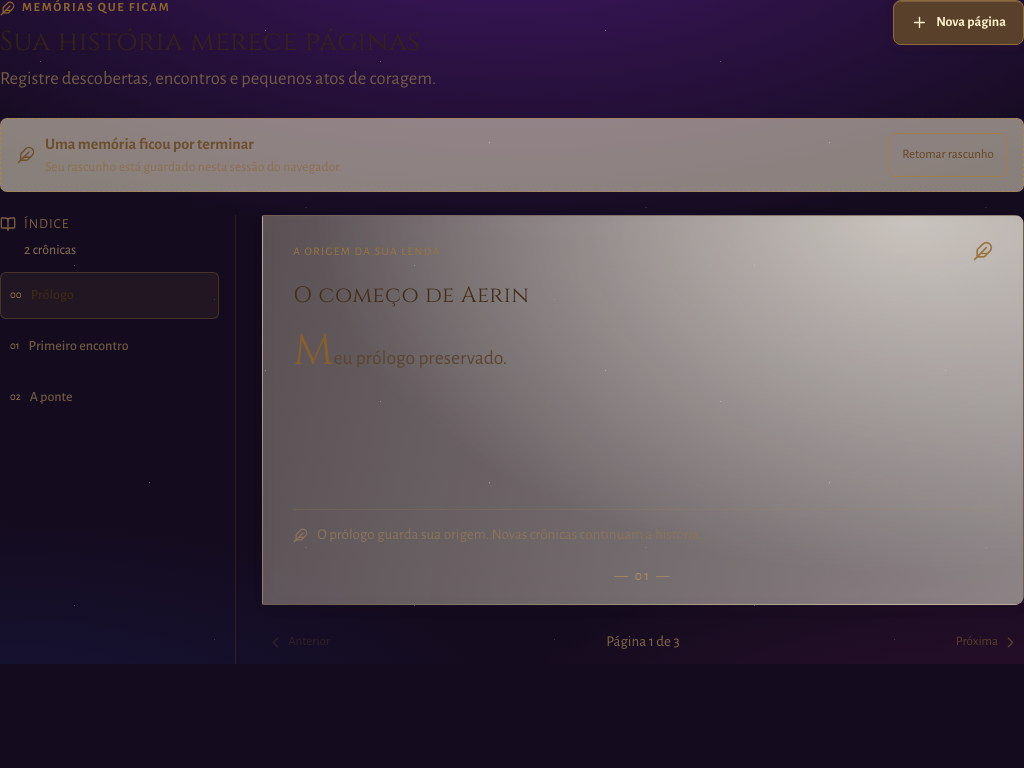
Test: Páginas da história no livro do Herói › recupera um rascunho ao retornar sem abrir o editor sozinho nem alterar o jogo
Earlier steps of the test are not shown.
Later steps or results of the test are not shown.
Click the button "Nova página": x=959, y=22 [893,0,1023,45]
Click the button "Retomar rascunho": x=948, y=155 [889,133,1007,177]
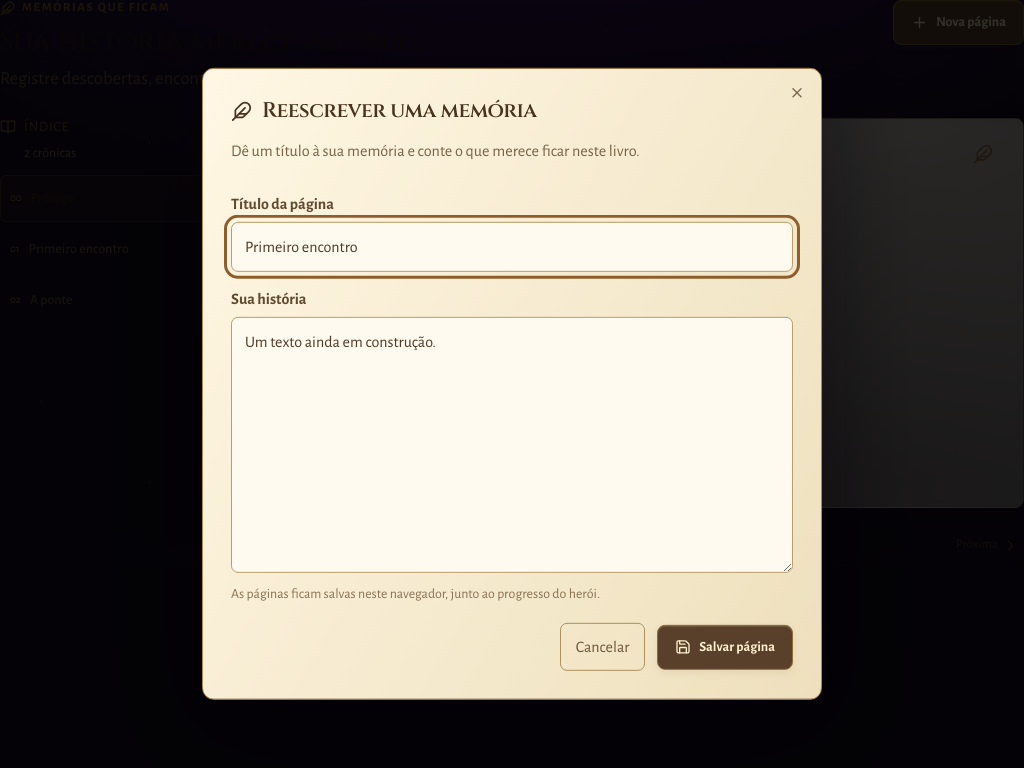
Expected: the field labelled "Título da página" holds "Primeiro encontro", [231,222,793,272]
Expected: the text box labelled "Sua história" holds "Um texto ainda em construção.", [231,317,793,573]
